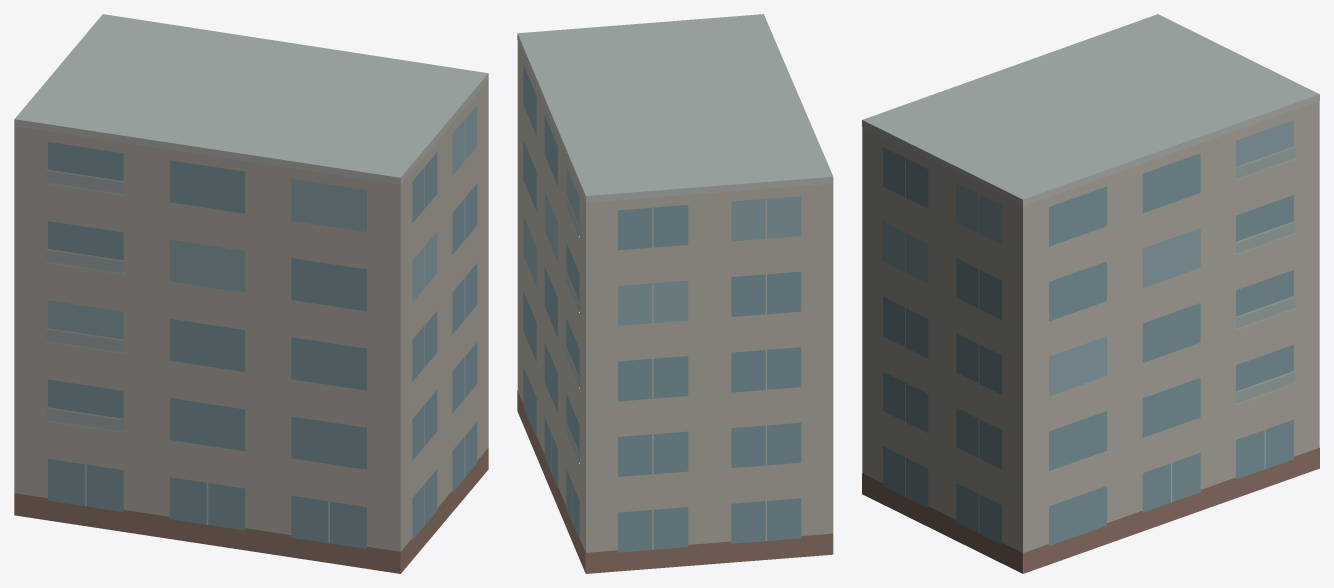
Rendered from survey-upis-32893262.glb.
The picture shows the model from 3 angles, left to right: view 1: azimuth 30°, elevation 25°; view 2: azimuth 150°, elevation 25°; view 3: azimuth 270°, elevation 25°; orthographic projection. The views are drawn at different scales.
Visible parts, largest first — view 1: survey-upis-32893262.tmp; view 2: survey-upis-32893262.tmp; view 3: survey-upis-32893262.tmp.
Part boxes in pixels (left/top/right/bottom): survey-upis-32893262.tmp: left=14, top=14, right=488, bottom=573; survey-upis-32893262.tmp: left=517, top=14, right=833, bottom=573; survey-upis-32893262.tmp: left=862, top=14, right=1319, bottom=573.
Size of the model in its own units: 14.58 by 13.7 by 15.19.
